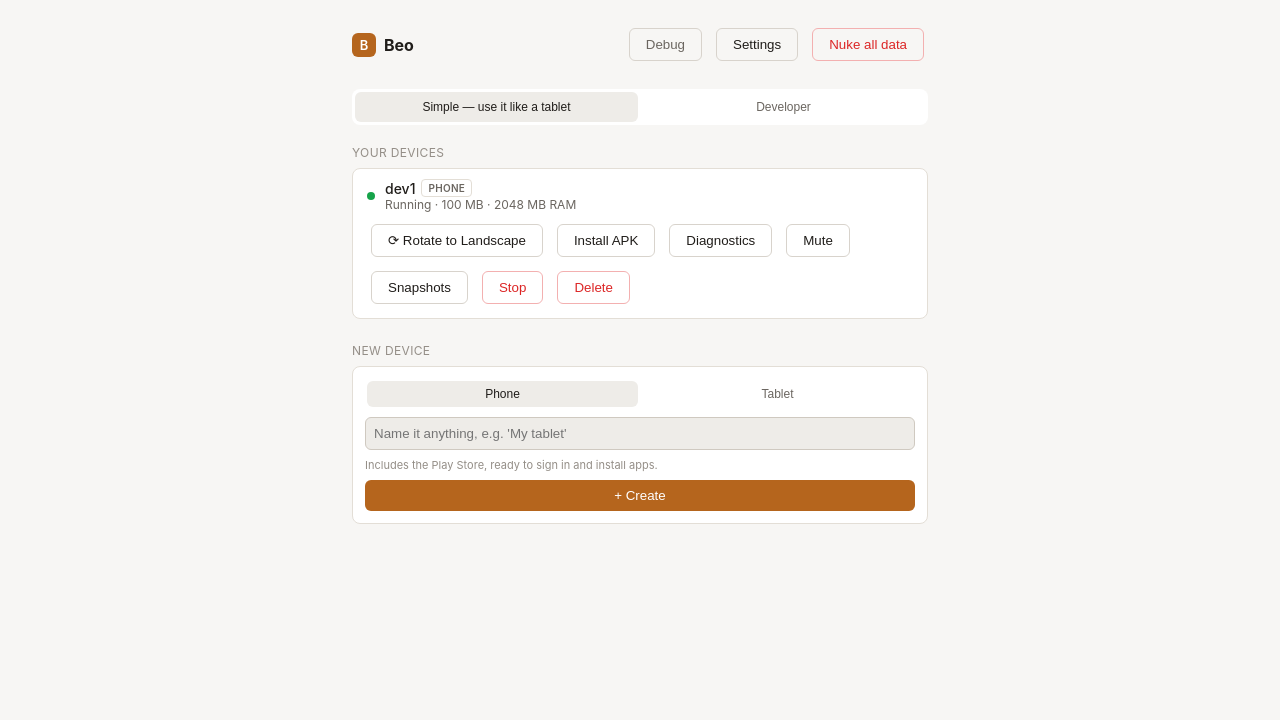
Scenario: App — destructive actions use an in-app confirm dialog, not window.confirm › shows the dialog on Delete, and does nothing if Cancel is clicked
The image size is (1280, 720).
Click the button "Delete" at (594,288), box [557,271,630,304]
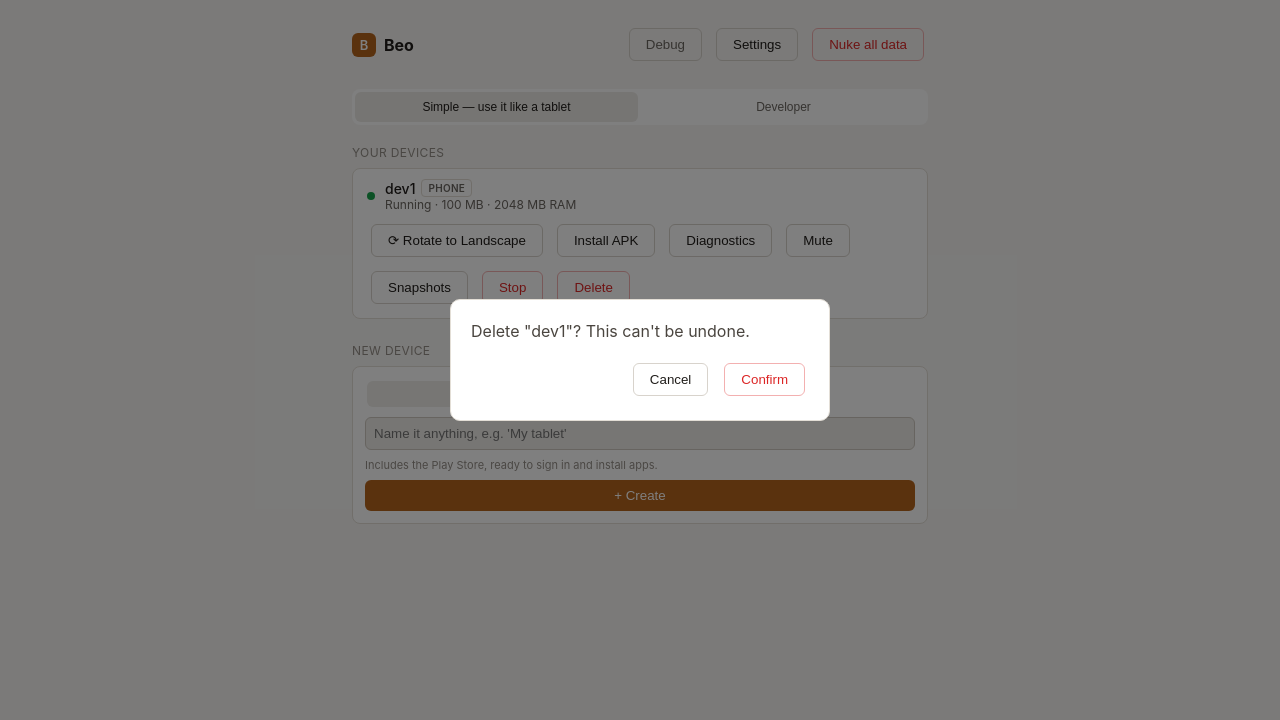
Expected: the text "Delete \"dev1\"? This can't be undone." is shown, [471,321,750,341]
Click the button "Cancel" at (671,379), box [633,363,708,396]
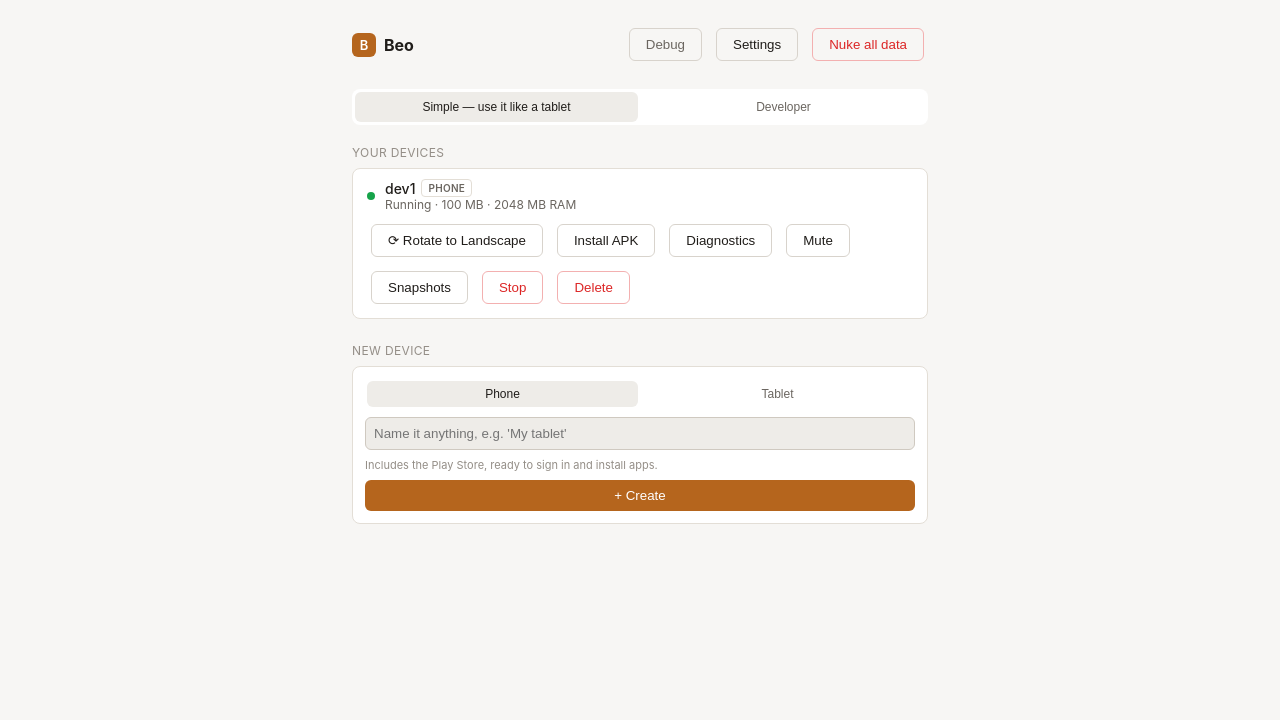
Expected: the text "dev1" is shown, [385,180,416,196]
Expected: the text "This can't be undone" is gone
